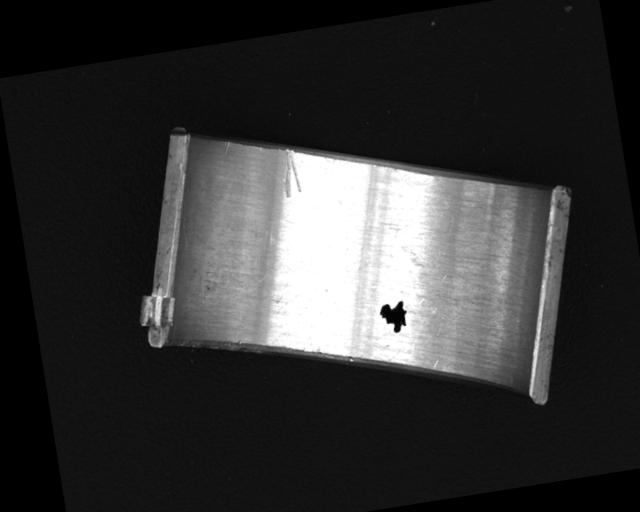blot: (377, 298, 411, 336)
nick: (276, 147, 303, 198), (222, 139, 232, 156)
